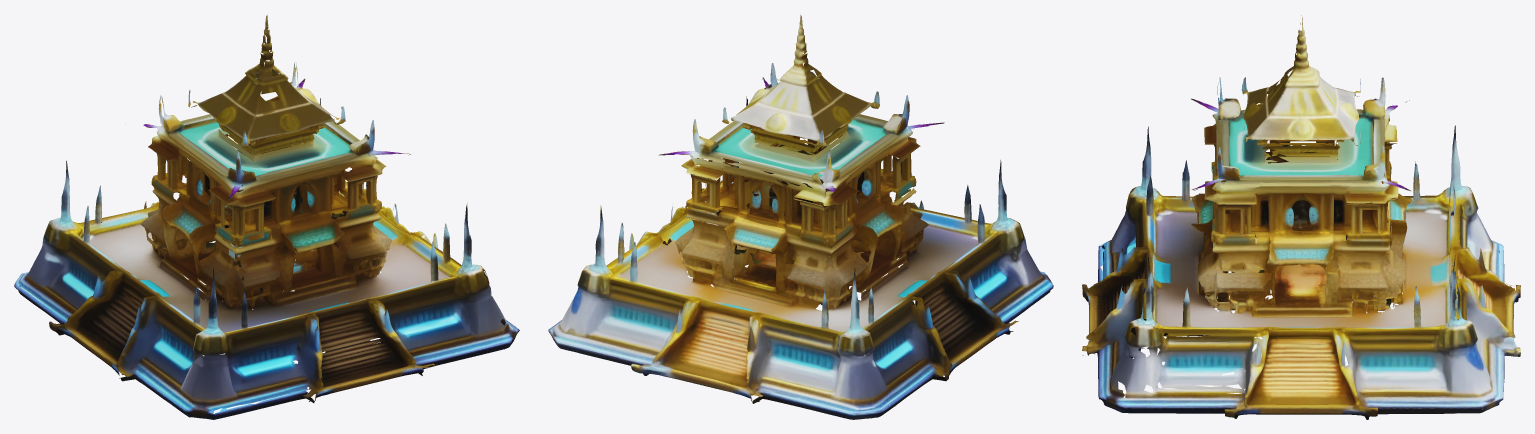
The model's file is exaltedcore.glb.
The picture shows the model from 3 angles, left to right: view 1: azimuth 30°, elevation 25°; view 2: azimuth 150°, elevation 25°; view 3: azimuth 270°, elevation 25°; orthographic projection. The views are drawn at different scales.
Visible parts, largest first — view 1: geometry_0.076; view 2: geometry_0.076; view 3: geometry_0.076.
Part boxes in pixels (x1,y1,x2,y2): geometry_0.076: (14,15,519,419); geometry_0.076: (548,15,1053,419); geometry_0.076: (1082,15,1520,419).
Bounding box in the file's own units: 4.9 × 3.9 × 4.9.
Materials: 1 (1 with a texture image).
